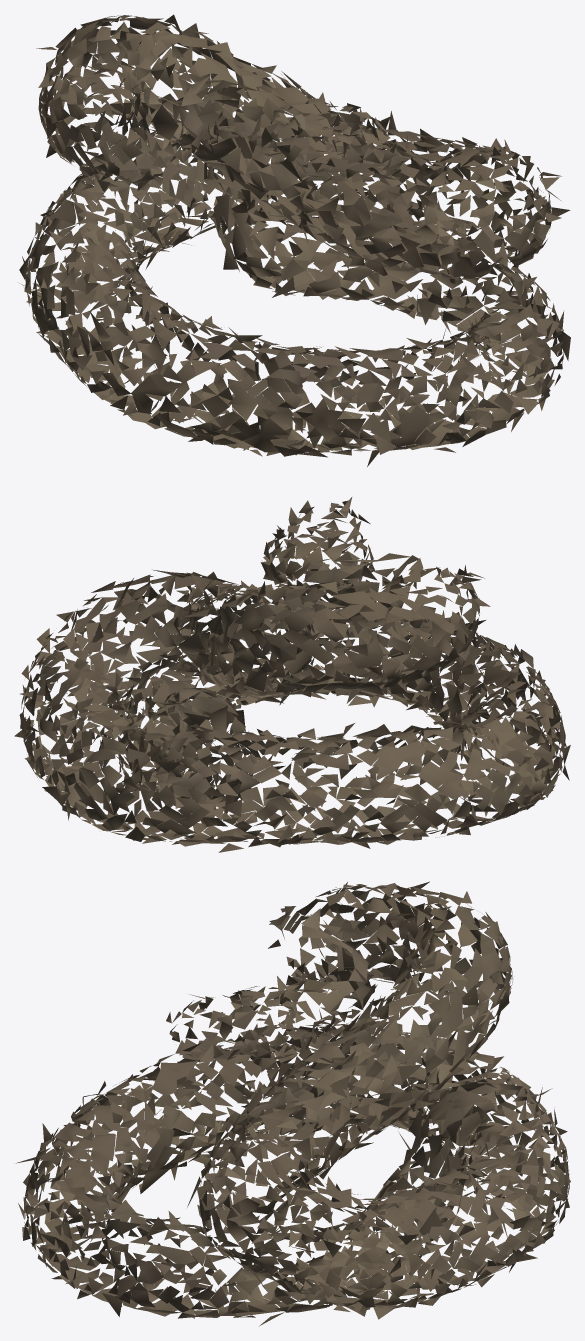
Rendered from snake.glb.
The picture shows the model from 3 angles, top to bottom: view 1: azimuth 30°, elevation 25°; view 2: azimuth 150°, elevation 25°; view 3: azimuth 270°, elevation 25°; orthographic projection. The views are drawn at different scales.
Visible parts, largest first — view 1: LO.001; view 2: LO.001; view 3: LO.001.
Boxes of the visible parts, x1,y1,x2,y2 form: LO.001: [19, 14, 570, 466]; LO.001: [14, 497, 570, 852]; LO.001: [16, 881, 570, 1326].
Size of the model in its own units: 1.95 by 1.16 by 1.96.
1 material, 1 textured.
